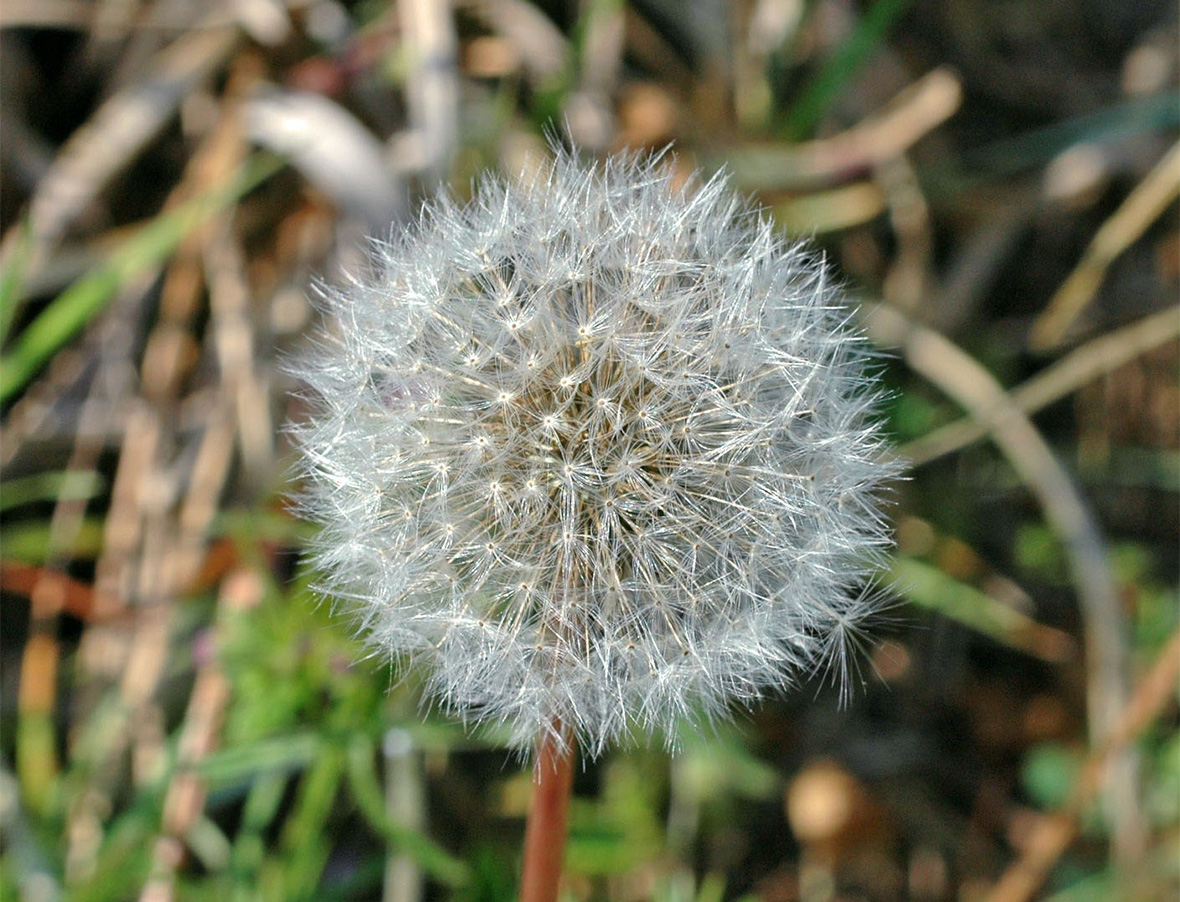dandelion white: (288, 127, 919, 728)
